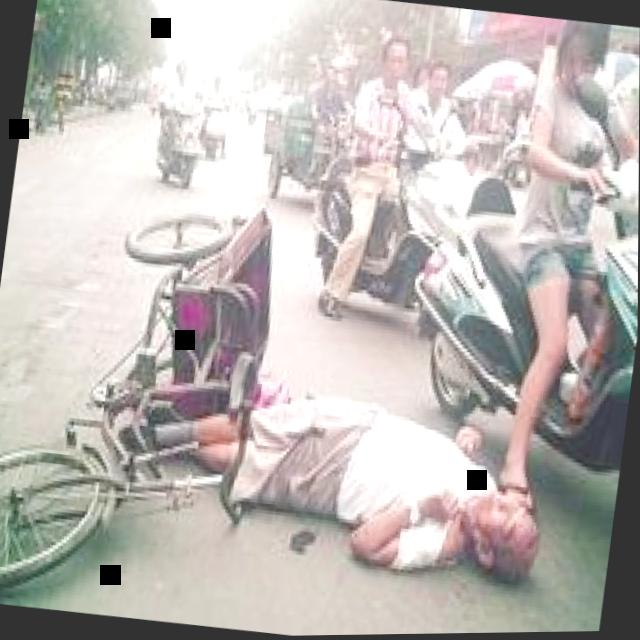Fall-Detected: (158, 341, 572, 607)
